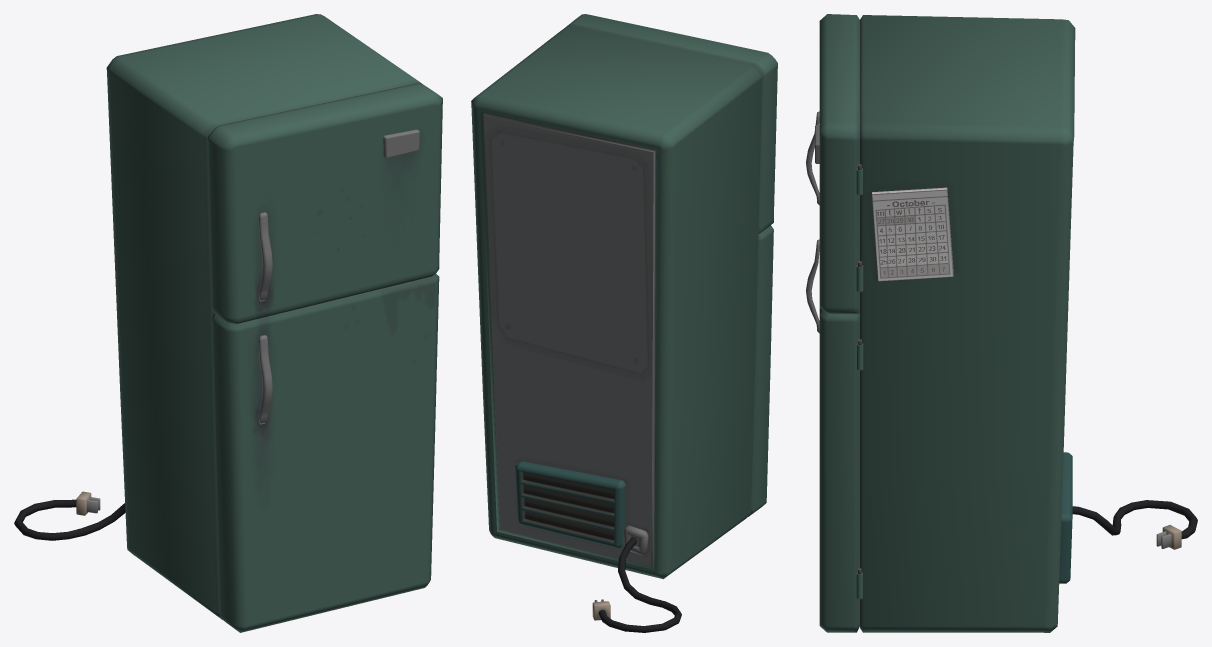
The model's file is PRP_Fridge.fbx.
3 views of the same model, side by side, from view 1: azimuth 30°, elevation 25°; view 2: azimuth 150°, elevation 25°; view 3: azimuth 270°, elevation 25° (orthographic). The views are drawn at different scales.
Parts seen in each view (by area): view 1: Cube.011; view 2: Cube.011; view 3: Cube.011.
Part boxes in pixels (box(x1,y1,x2,y2)): Cube.011: box(14, 14, 442, 632); Cube.011: box(471, 14, 777, 632); Cube.011: box(806, 14, 1197, 632).
Size of the model in its own units: 933 by 1636 by 1110.
Materials: 1 (1 with a texture image).
